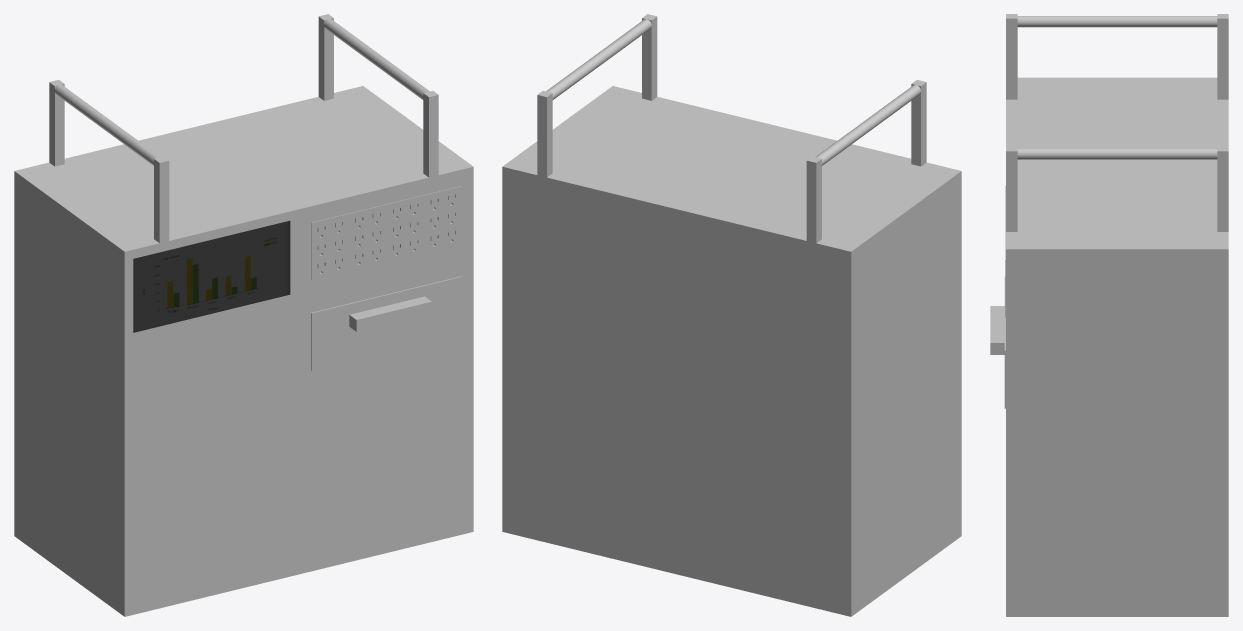
The model's file is MediumBattery.fbx.
The picture shows the model from 3 angles, left to right: view 1: azimuth 30°, elevation 25°; view 2: azimuth 150°, elevation 25°; view 3: azimuth 270°, elevation 25°; orthographic projection.
Visible parts, largest first — view 1: MediumBattery; view 2: MediumBattery; view 3: MediumBattery.
Part boxes in pixels (x1,y1,x2,y2): MediumBattery: (14,14,473,616); MediumBattery: (502,14,961,616); MediumBattery: (990,14,1228,616).
Bounding box in the file's own units: 60.96 × 74.38 × 35.78.
